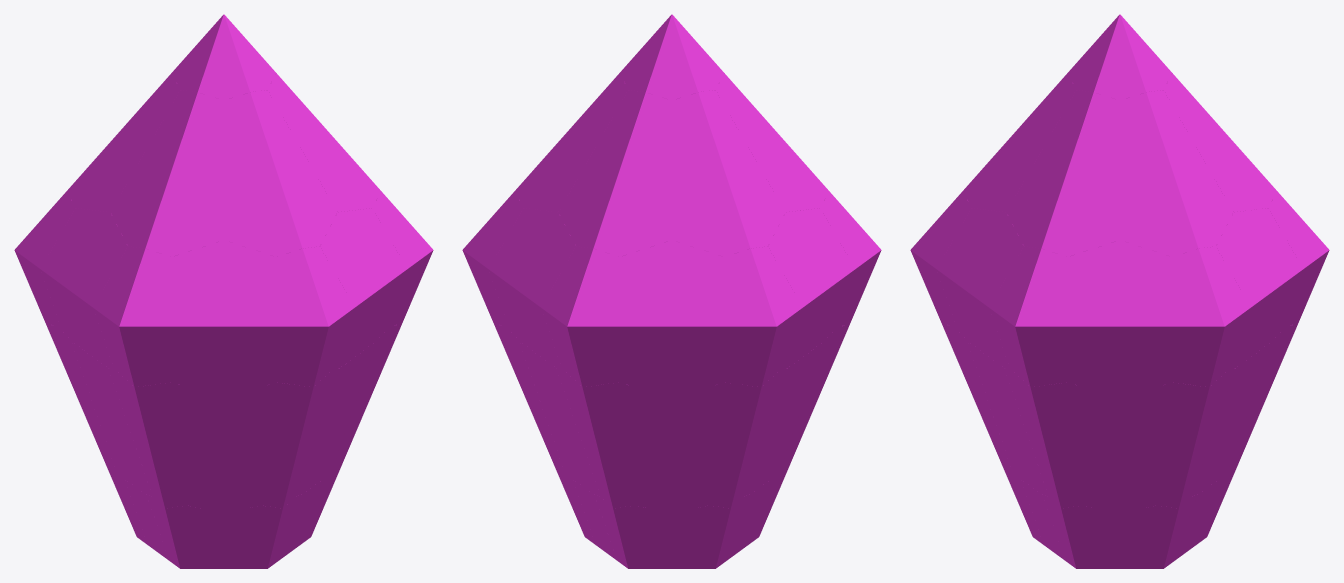
File: Crystal_Mesh_CellFracture_1.fbx
3 views of the same model, side by side, from view 1: azimuth 30°, elevation 25°; view 2: azimuth 150°, elevation 25°; view 3: azimuth 270°, elevation 25° (orthographic).
Visible parts, largest first — view 1: Crystal_Cell Fracture_cell.024, Crystal_Cell Fracture_cell.033, Crystal_Cell Fracture_cell.036, Crystal_Cell Fracture_cell.039, Crystal_Cell Fracture_cell.007, Crystal_Cell Fracture_cell.009, Crystal_Cell Fracture_cell.021, Crystal_Cell Fracture_cell.027, Crystal_Cell Fracture_cell.022, Crystal_Cell Fracture_cell.025, Crystal_Cell Fracture_cell.032, Crystal_Cell Fracture_cell.034 (+14 smaller); view 2: Crystal_Cell Fracture_cell.030, Crystal_Cell Fracture_cell.034, Crystal_Cell Fracture_cell.035, Crystal_Cell Fracture_cell.037, Crystal_Cell Fracture_cell.001, Crystal_Cell Fracture_cell.011, Crystal_Cell Fracture_cell.014, Crystal_Cell Fracture_cell.027, Crystal_Cell Fracture_cell.015, Crystal_Cell Fracture_cell.028, Crystal_Cell Fracture_cell.031, Crystal_Cell Fracture_cell.033 (+14 smaller); view 3: Crystal_Cell Fracture_cell.018, Crystal_Cell Fracture_cell.031, Crystal_Cell Fracture_cell.032, Crystal_Cell Fracture_cell.041, Crystal_Cell Fracture_cell.003, Crystal_Cell Fracture_cell.005, Crystal_Cell Fracture_cell.014, Crystal_Cell Fracture_cell.021, Crystal_Cell Fracture_cell.016, Crystal_Cell Fracture_cell.019, Crystal_Cell Fracture_cell.035, Crystal_Cell Fracture_cell.036 (+14 smaller).
Part boxes in pixels (bbox=[...]): Crystal_Cell Fracture_cell.024: bbox=[171, 240, 276, 387]; Crystal_Cell Fracture_cell.033: bbox=[110, 90, 223, 256]; Crystal_Cell Fracture_cell.036: bbox=[224, 90, 337, 256]; Crystal_Cell Fracture_cell.039: bbox=[187, 387, 260, 508]; Crystal_Cell Fracture_cell.007: bbox=[276, 246, 354, 387]; Crystal_Cell Fracture_cell.009: bbox=[93, 246, 171, 387]; Crystal_Cell Fracture_cell.021: bbox=[320, 208, 407, 368]; Crystal_Cell Fracture_cell.027: bbox=[40, 208, 127, 368]; Crystal_Cell Fracture_cell.022: bbox=[261, 368, 339, 508]; Crystal_Cell Fracture_cell.025: bbox=[108, 368, 186, 508]; Crystal_Cell Fracture_cell.032: bbox=[267, 73, 380, 212]; Crystal_Cell Fracture_cell.034: bbox=[67, 73, 180, 212]; Crystal_Cell Fracture_cell.030: bbox=[619, 240, 724, 387]; Crystal_Cell Fracture_cell.034: bbox=[672, 90, 785, 256]; Crystal_Cell Fracture_cell.035: bbox=[558, 90, 671, 256]; Crystal_Cell Fracture_cell.037: bbox=[635, 387, 708, 508]; Crystal_Cell Fracture_cell.001: bbox=[541, 246, 619, 387]; Crystal_Cell Fracture_cell.011: bbox=[724, 246, 802, 387]; Crystal_Cell Fracture_cell.014: bbox=[488, 208, 575, 368]; Crystal_Cell Fracture_cell.027: bbox=[768, 208, 855, 368]; Crystal_Cell Fracture_cell.015: bbox=[556, 368, 634, 508]; Crystal_Cell Fracture_cell.028: bbox=[709, 368, 787, 508]; Crystal_Cell Fracture_cell.031: bbox=[515, 73, 628, 212]; Crystal_Cell Fracture_cell.033: bbox=[715, 73, 828, 212]; Crystal_Cell Fracture_cell.018: bbox=[1067, 240, 1172, 387]; Crystal_Cell Fracture_cell.031: bbox=[1120, 90, 1233, 256]; Crystal_Cell Fracture_cell.032: bbox=[1006, 90, 1119, 256]; Crystal_Cell Fracture_cell.041: bbox=[1083, 387, 1156, 508]; Crystal_Cell Fracture_cell.003: bbox=[1172, 246, 1250, 387]; Crystal_Cell Fracture_cell.005: bbox=[989, 246, 1067, 387]; Crystal_Cell Fracture_cell.014: bbox=[1216, 208, 1303, 368]; Crystal_Cell Fracture_cell.021: bbox=[936, 208, 1023, 368]; Crystal_Cell Fracture_cell.016: bbox=[1157, 368, 1235, 508]; Crystal_Cell Fracture_cell.019: bbox=[1004, 368, 1082, 508]; Crystal_Cell Fracture_cell.035: bbox=[1163, 73, 1276, 212]; Crystal_Cell Fracture_cell.036: bbox=[963, 73, 1076, 212].
Size of the model in its own units: 2004 by 3186 by 2314.
